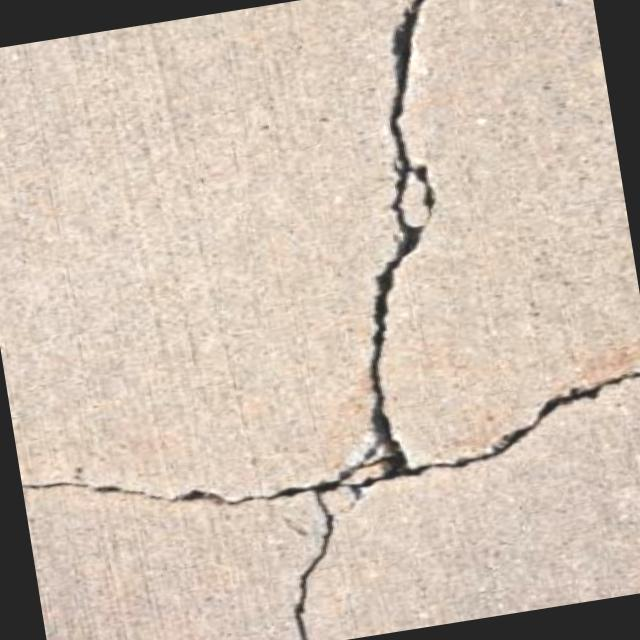crack: (302, 0, 501, 418), (22, 434, 314, 539), (403, 366, 640, 477), (275, 492, 351, 640), (306, 414, 414, 500)
